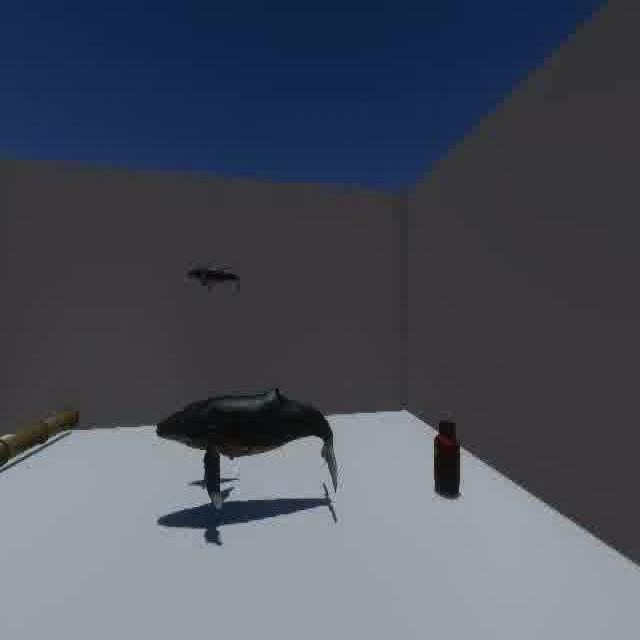Cylinder: (422, 406, 472, 513)
Pipe: (0, 393, 92, 477)
Whale: (142, 370, 348, 524), (179, 256, 250, 306)
